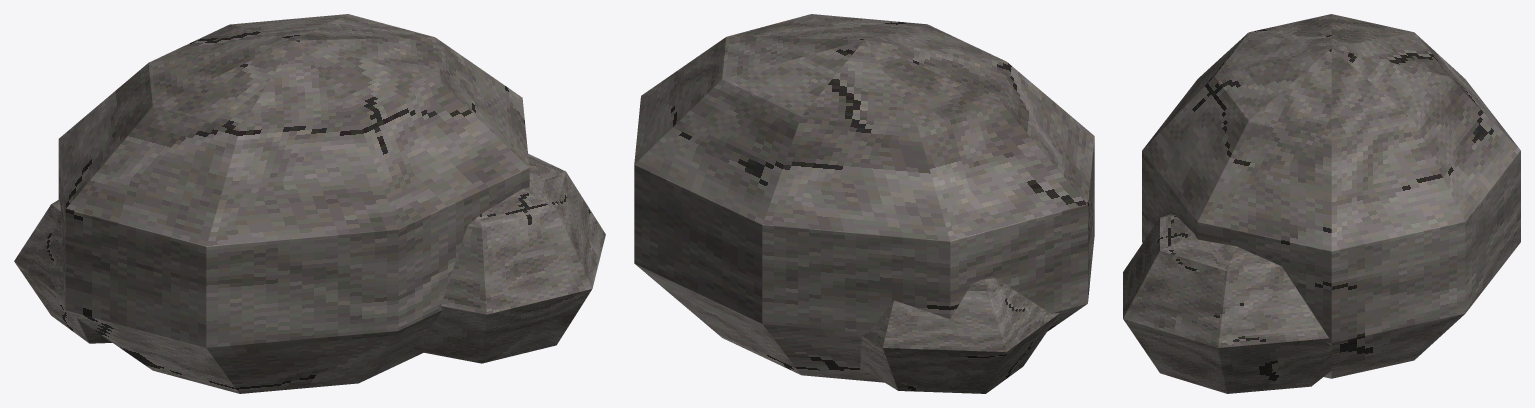
Rendered from entulho_de_caverna.glb.
3 renders of one model, left to right at view 1: azimuth 30°, elevation 25°; view 2: azimuth 150°, elevation 25°; view 3: azimuth 270°, elevation 25°, orthographic. The views are drawn at different scales.
Parts seen in each view (by area): view 1: entulho_de_caverna; view 2: entulho_de_caverna; view 3: entulho_de_caverna.
Boxes of the visible parts, x1,y1,x2,y2 form: entulho_de_caverna: [14, 14, 605, 393]; entulho_de_caverna: [634, 14, 1094, 393]; entulho_de_caverna: [1123, 14, 1520, 393].
Bounding box in the file's own units: 1.21 × 0.7894 × 0.9604.
Materials: 1 (1 with a texture image).
